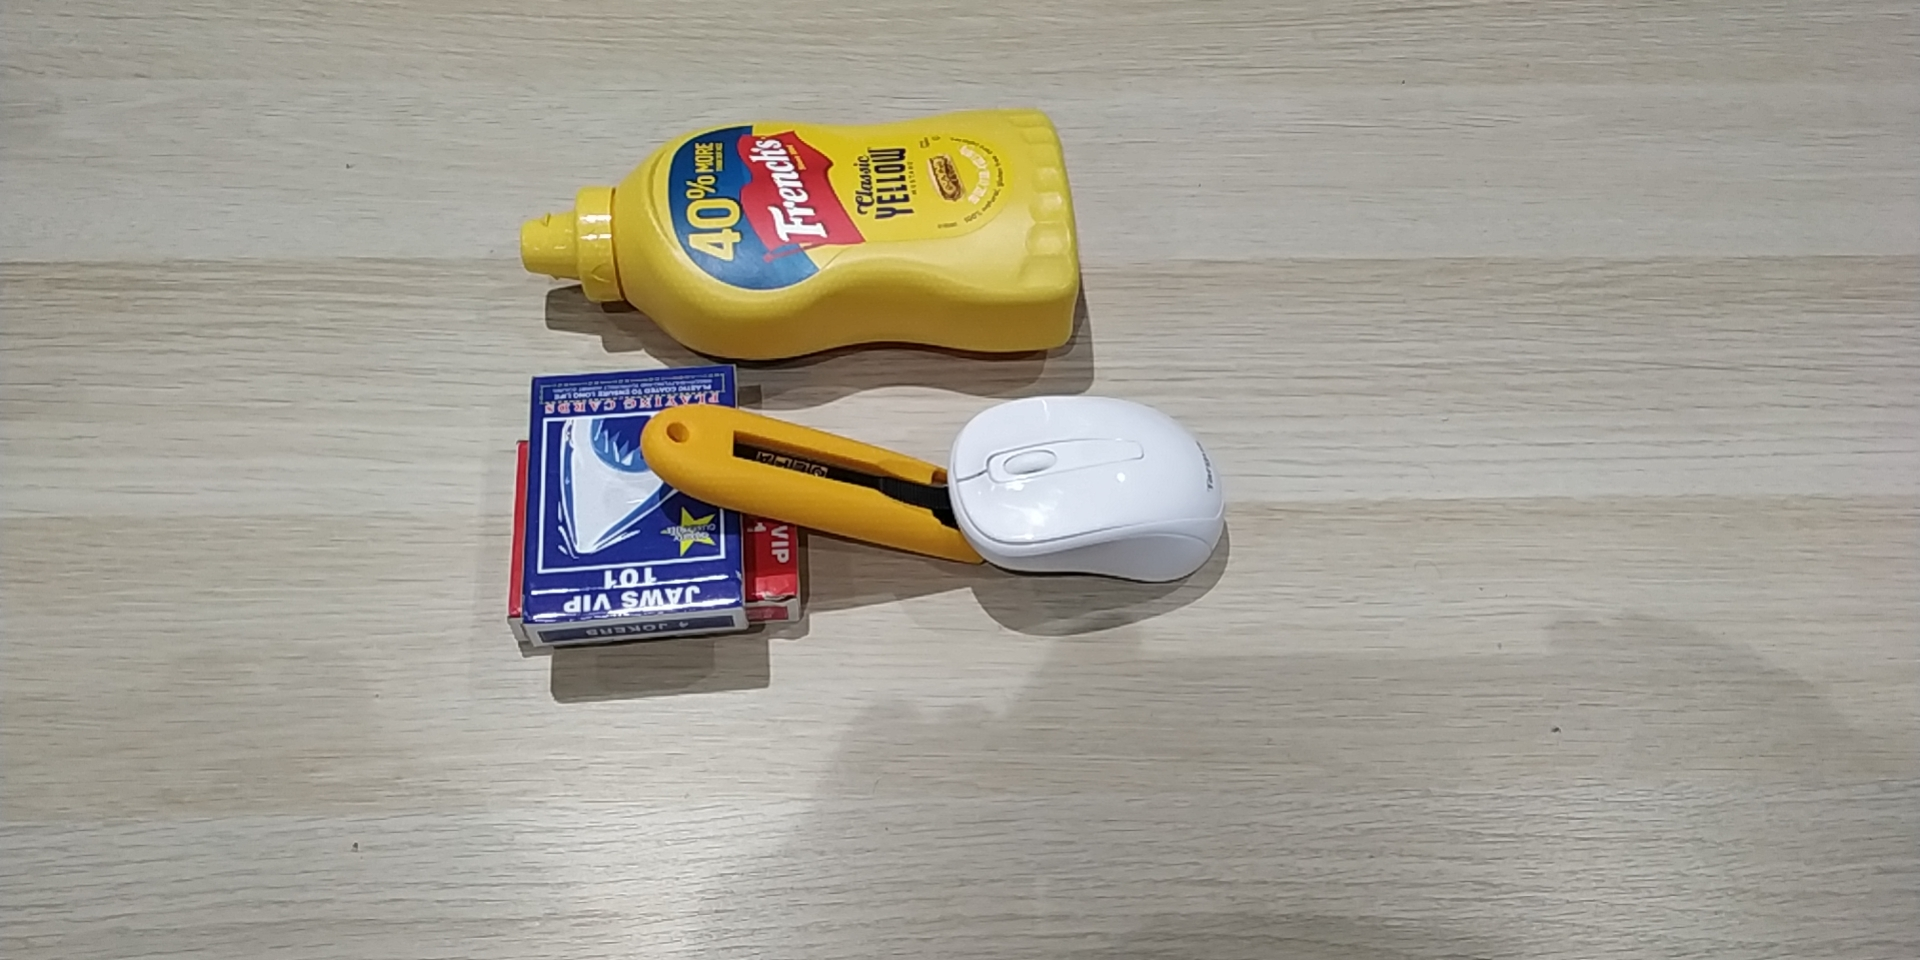bottle: (520, 103, 1092, 369)
box: (503, 436, 831, 640), (519, 366, 744, 647)
knife: (640, 402, 992, 572)
mouse: (944, 394, 1227, 588)
